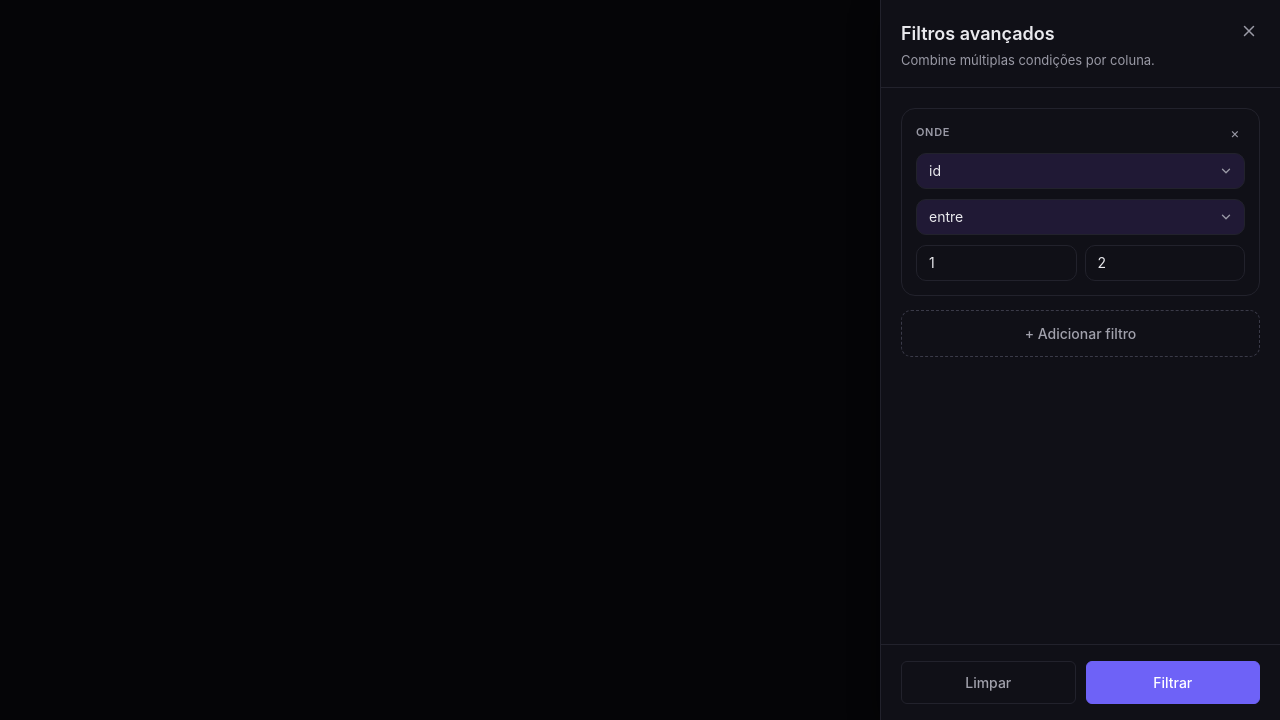
Scenario: FilterPanel › editar a coluna de um card realinha o operador quando ele não existe na nova família
Select "name" in the dropdown named "Coluna do filtro". click: (1080, 170)
box: [916,152,1245,188]
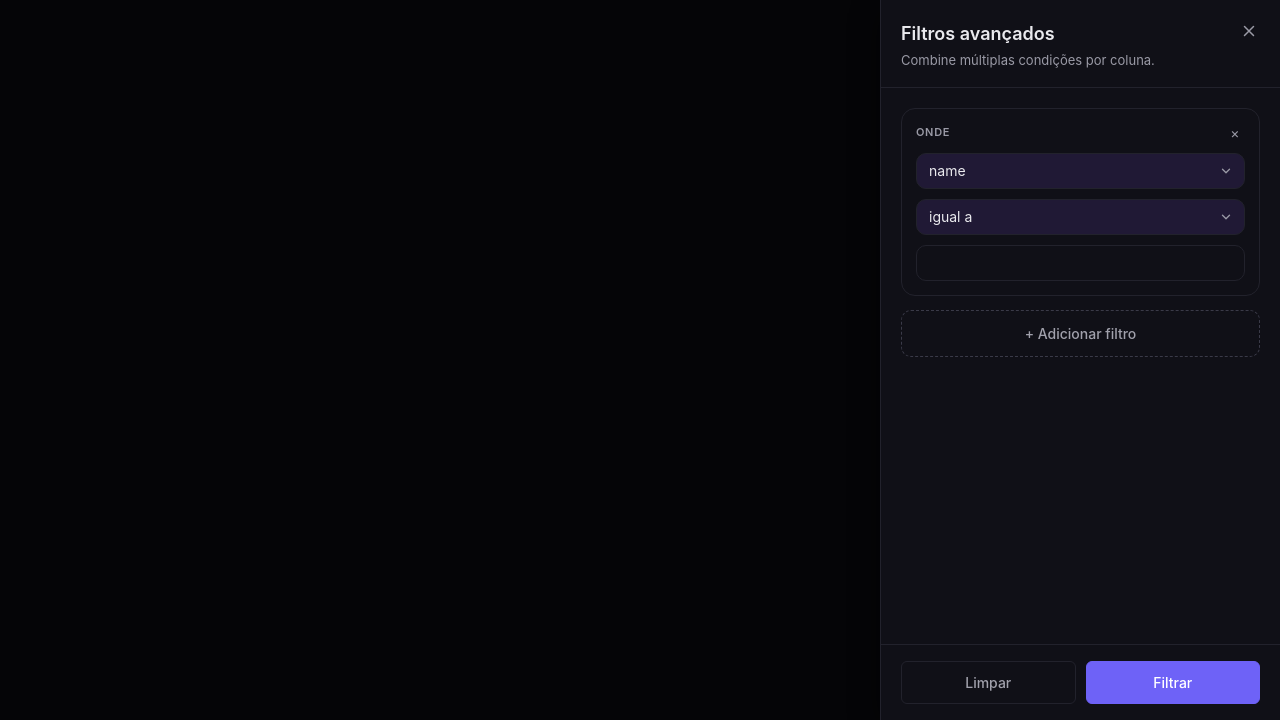
Now the dropdown named "Operador do filtro" shows "igual a", box [916,198,1245,234]
